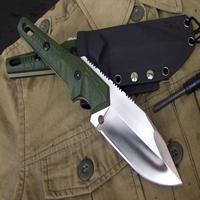knife: (15, 13, 188, 192)
